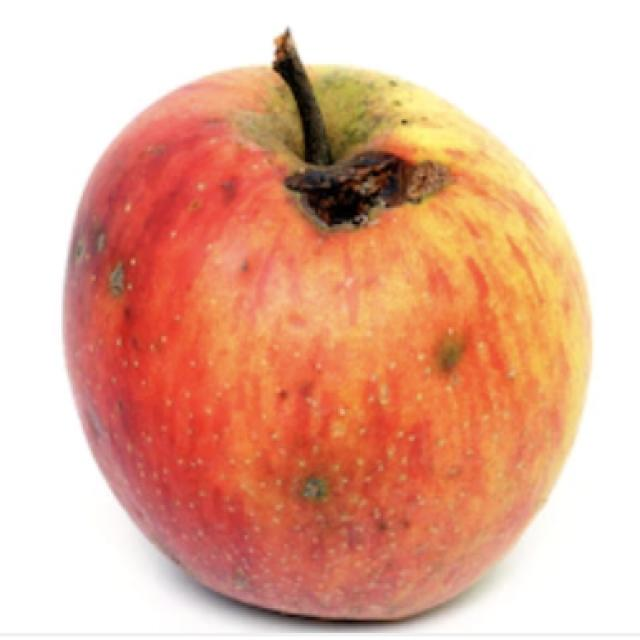rotten_apple: (60, 34, 593, 619)
